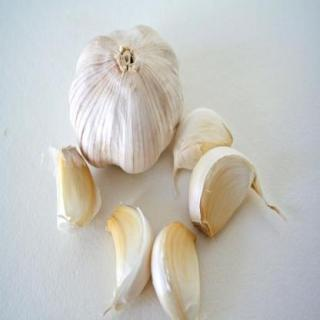Bawang Putih: (69, 26, 186, 176), (190, 146, 261, 239), (151, 222, 205, 320), (108, 204, 156, 312), (173, 109, 234, 175), (57, 147, 100, 236)
